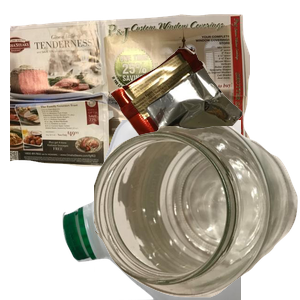glass: (94, 126, 300, 300)
paper: (10, 11, 250, 180)
plastic: (60, 120, 300, 300)
trash: (107, 46, 300, 198)
